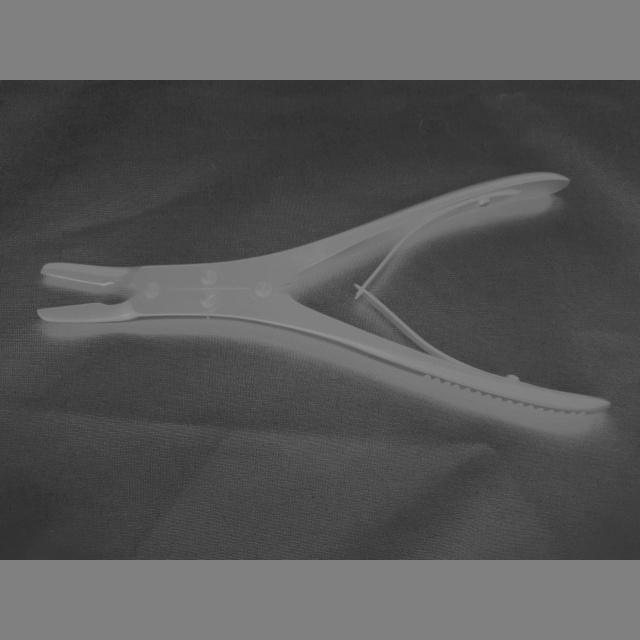gubia: (36, 172, 609, 439)
